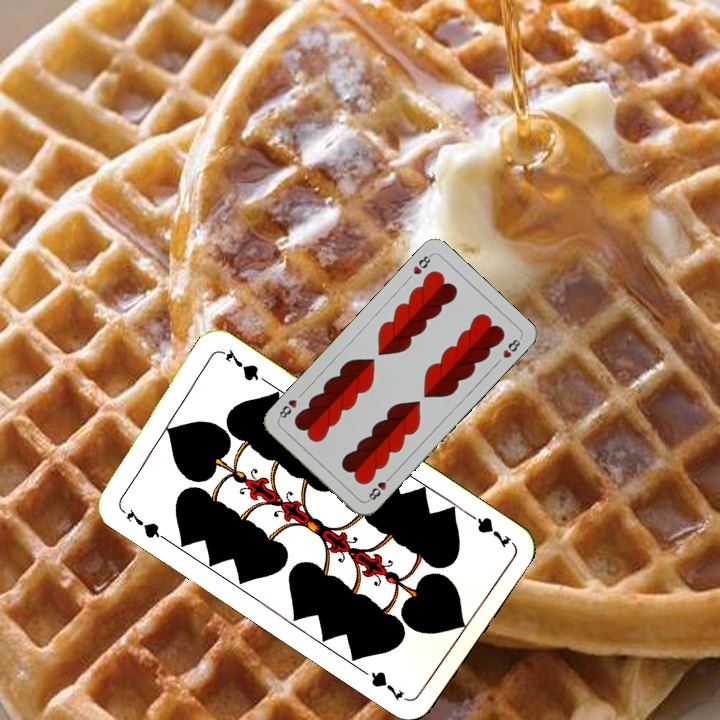G7: (461, 507, 514, 551), (115, 503, 168, 542)
H8: (363, 471, 395, 504), (409, 250, 435, 277)
